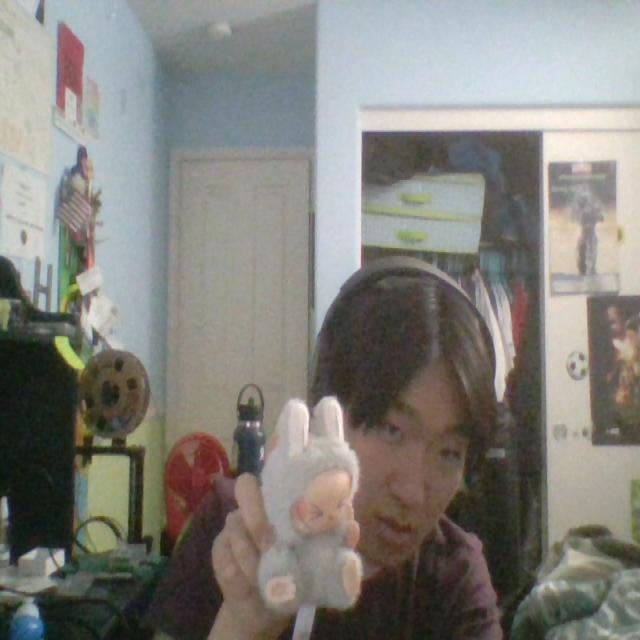labubu: (259, 397, 362, 613)
